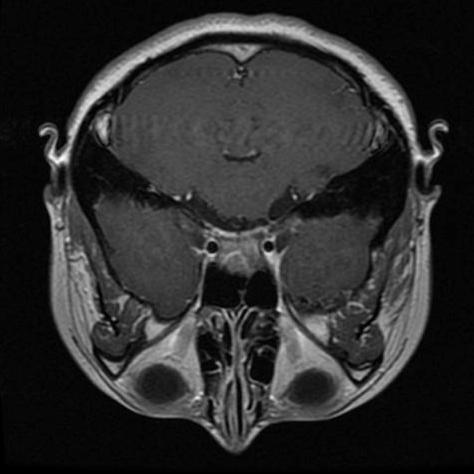Tumour-Pituitary: (198, 223, 288, 272)
